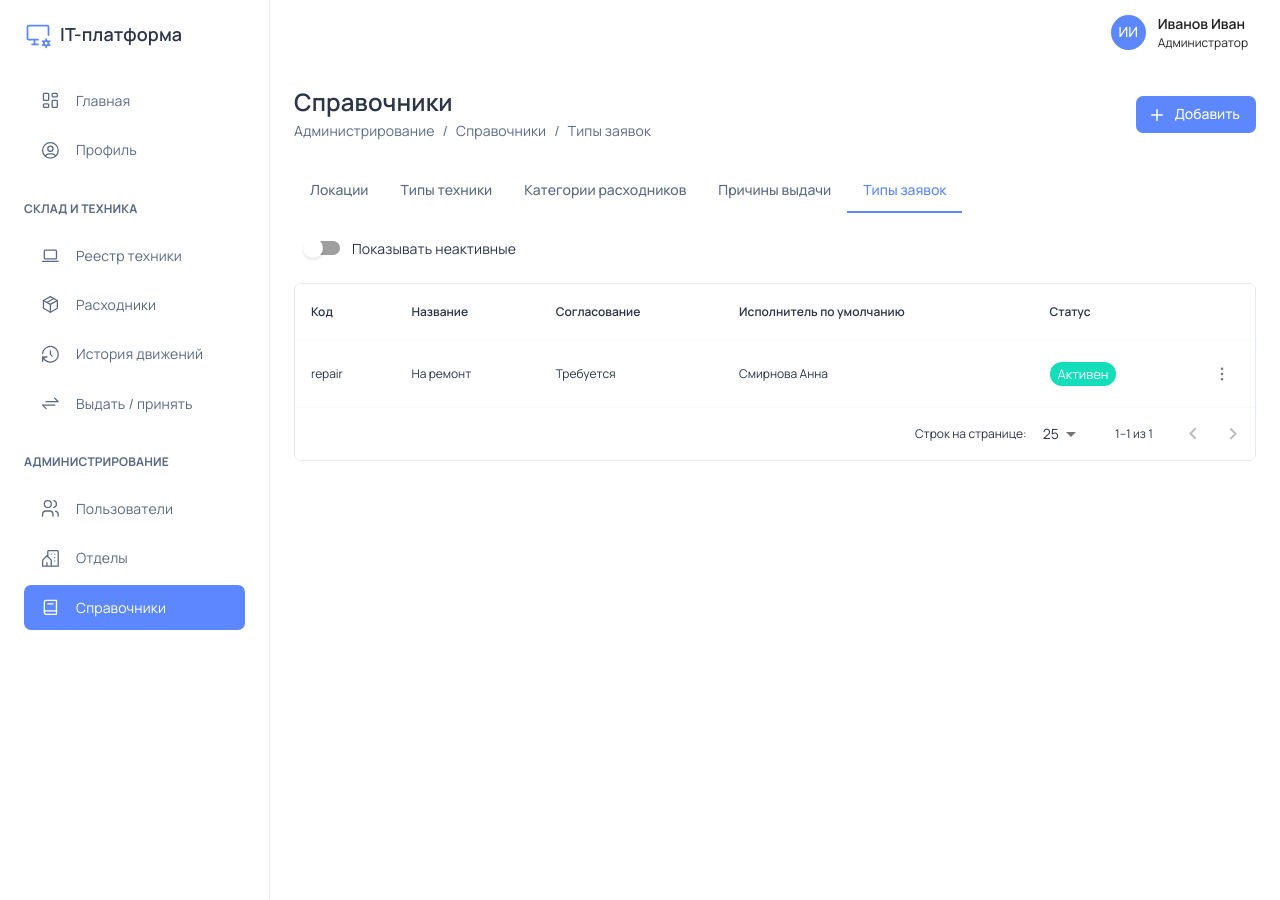
Test: тип заявки: код задаётся при создании, дубль кода — ошибка под полем «Код»
Expected: the text "Смирнова Анна" is shown, [723, 341, 1034, 408]
Click the button named "Действия".
click(1222, 374)  # box [1205, 357, 1239, 391]
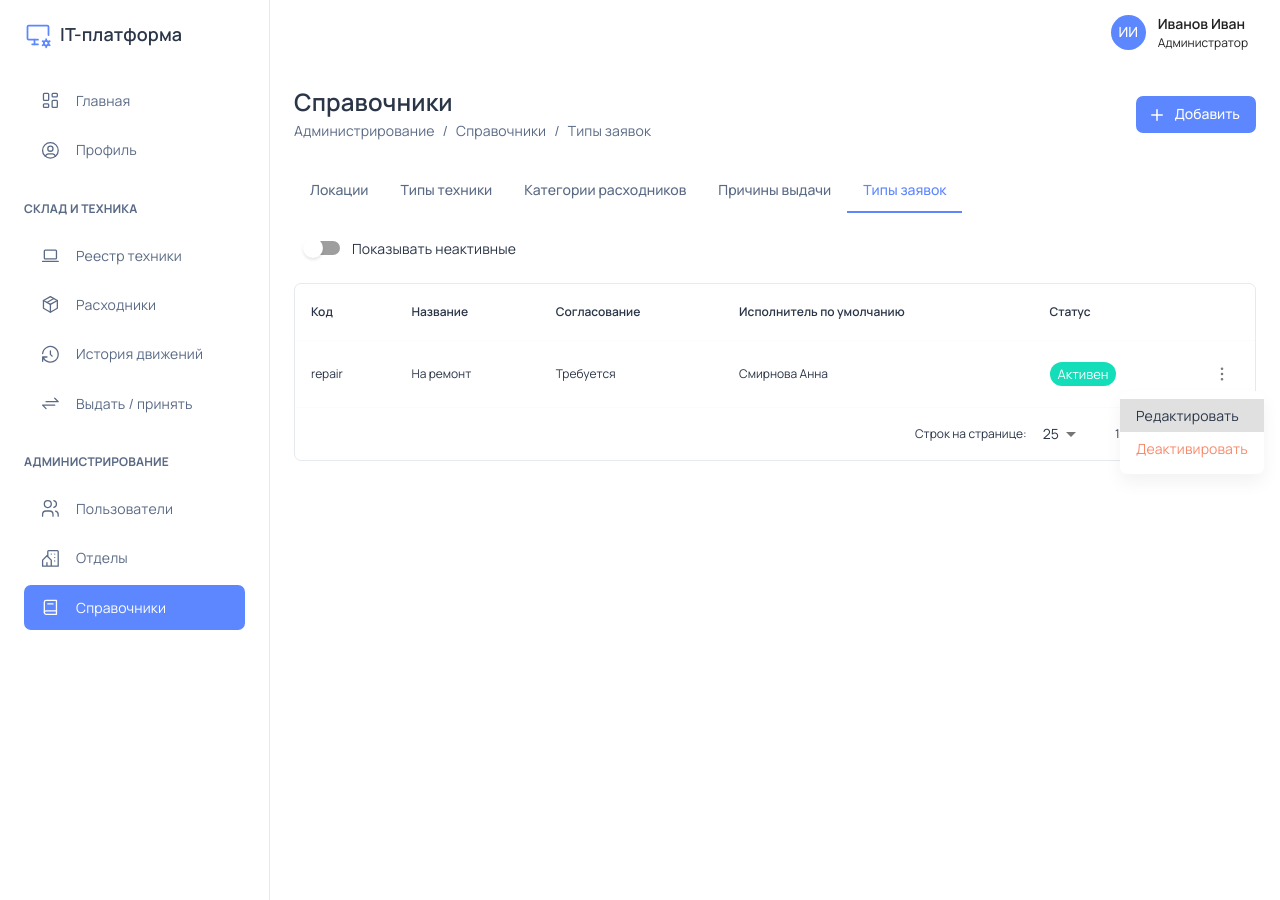
Click the menu item "Редактировать".
click(1192, 416)  # box [1120, 399, 1264, 432]
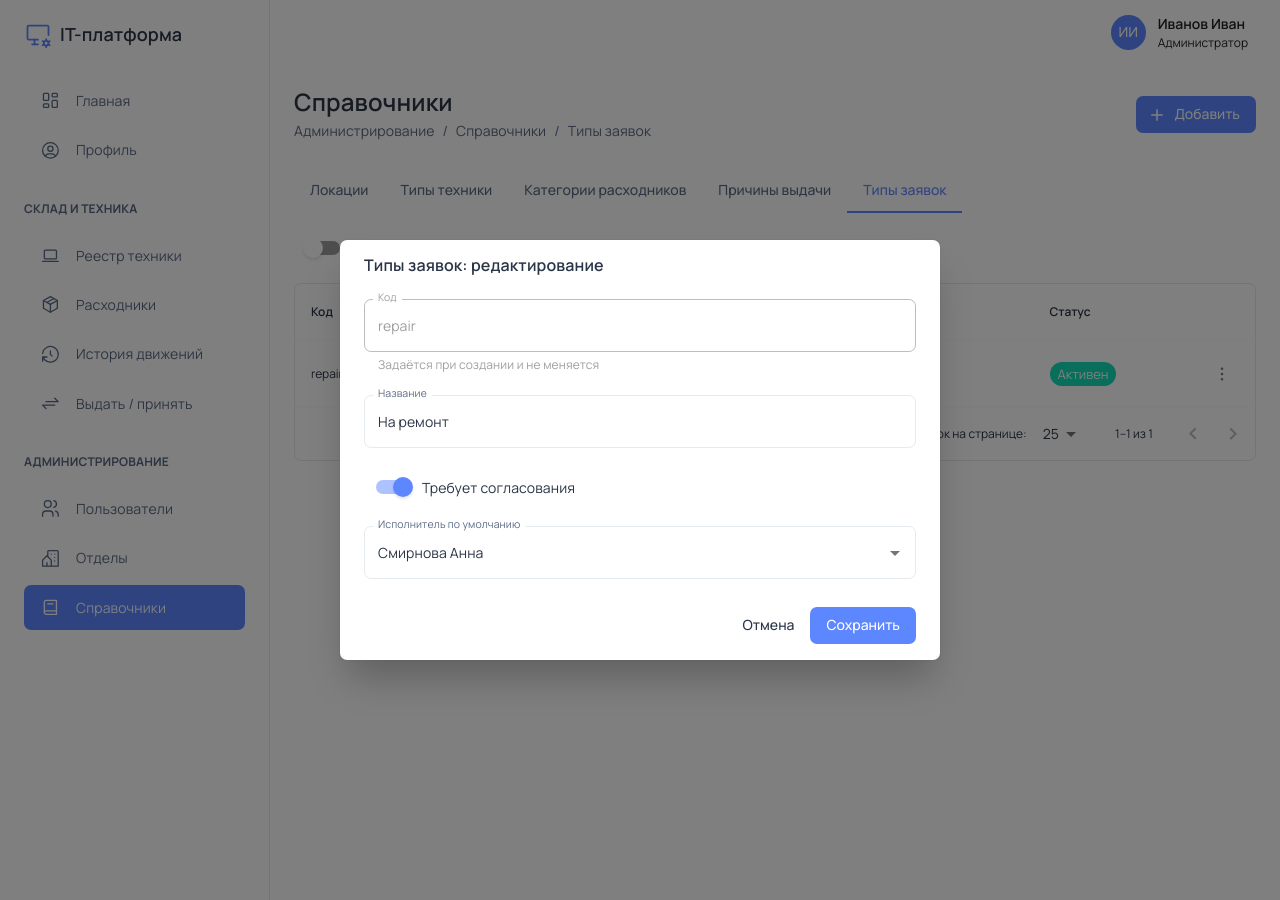
Expected: the field labelled "Код" is disabled, [364, 299, 916, 352]
Click the button "Отмена".
click(769, 626)  # box [735, 608, 802, 644]
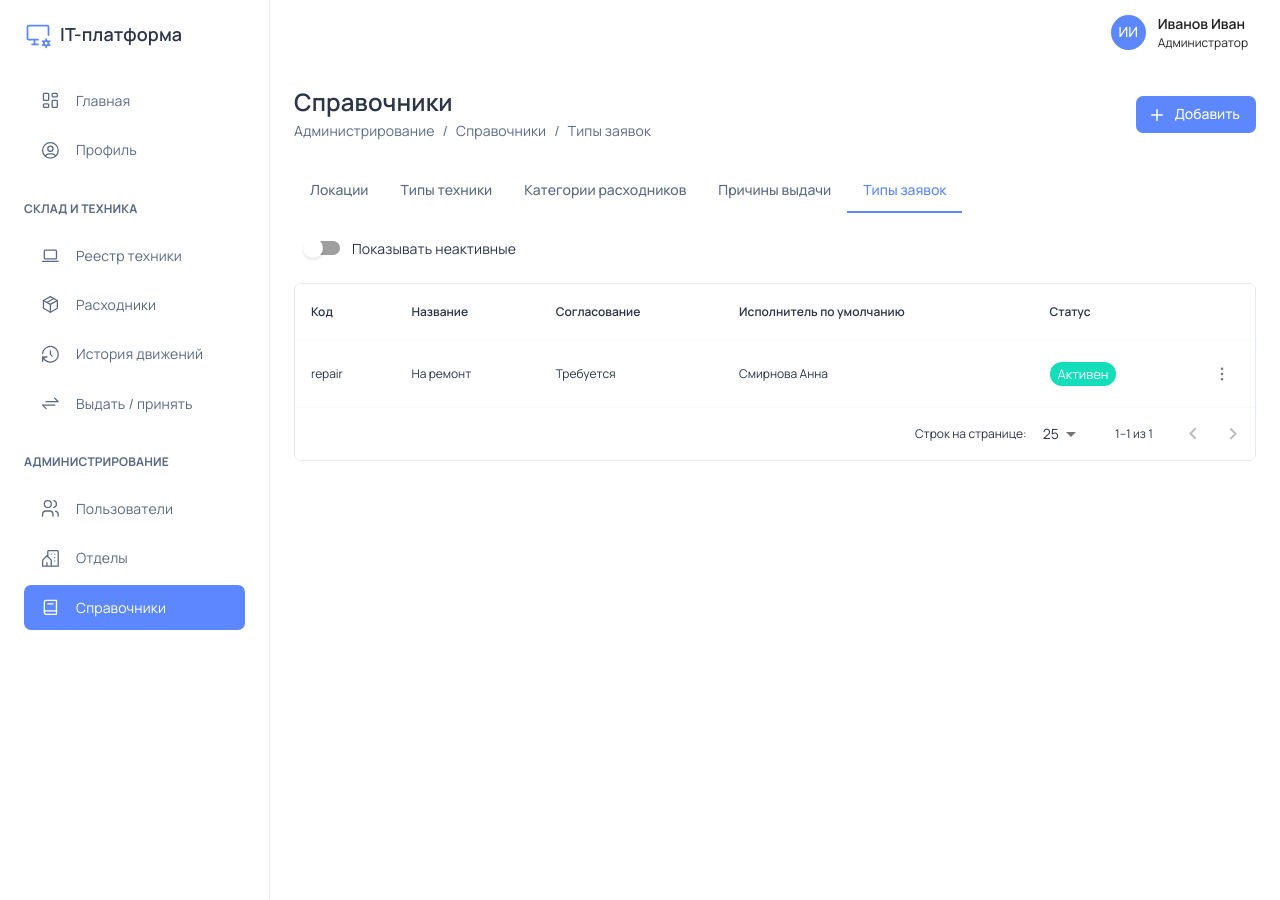
Expected: the dialog is gone
Click the button "Добавить".
click(1196, 115)  # box [1136, 96, 1256, 133]
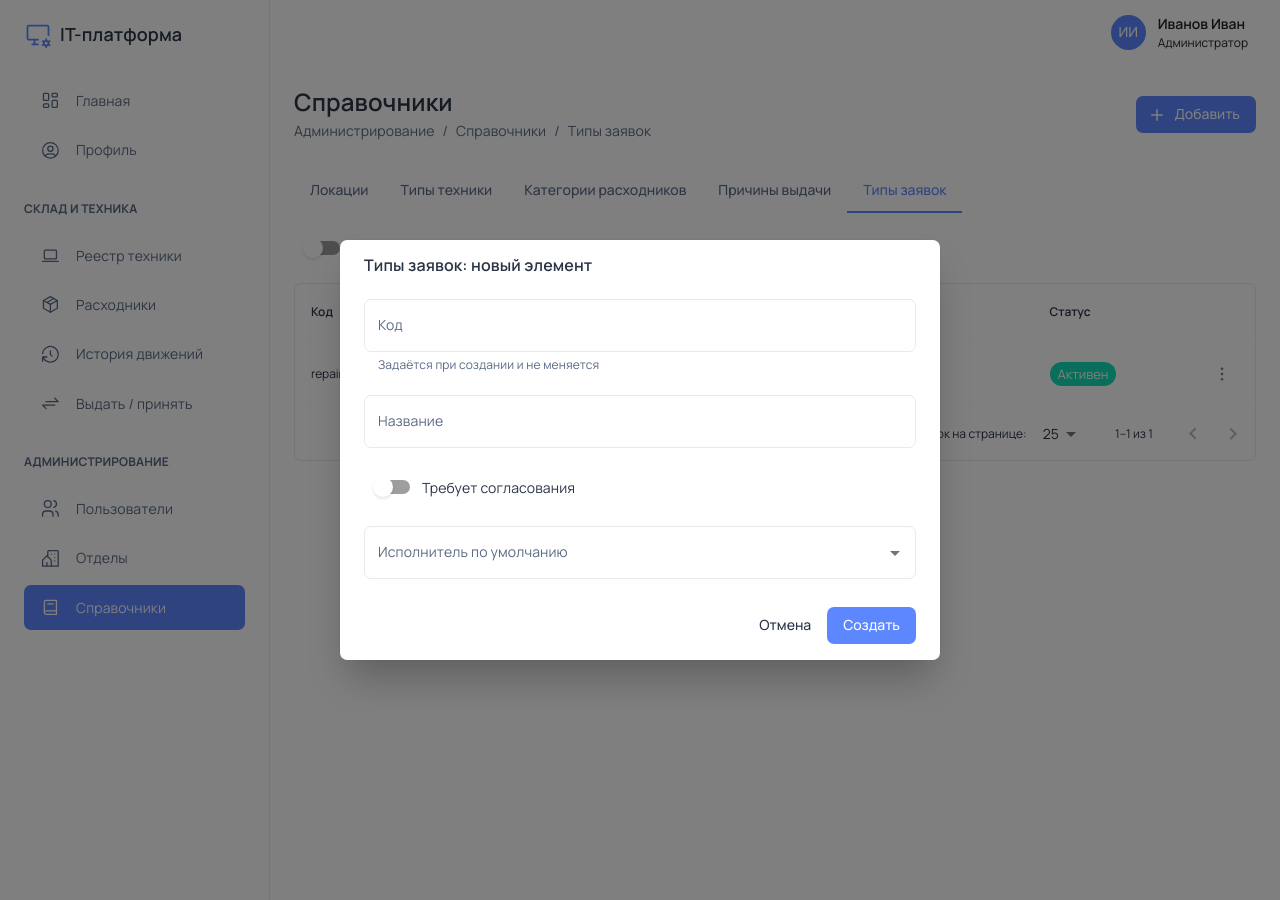
Type "repair" into the field labelled "Код".
click(640, 326); type("repair")  # box [364, 299, 916, 352]
Type "Ремонт" into the field labelled "Название".
click(640, 422); type("Ремонт")  # box [364, 395, 916, 448]
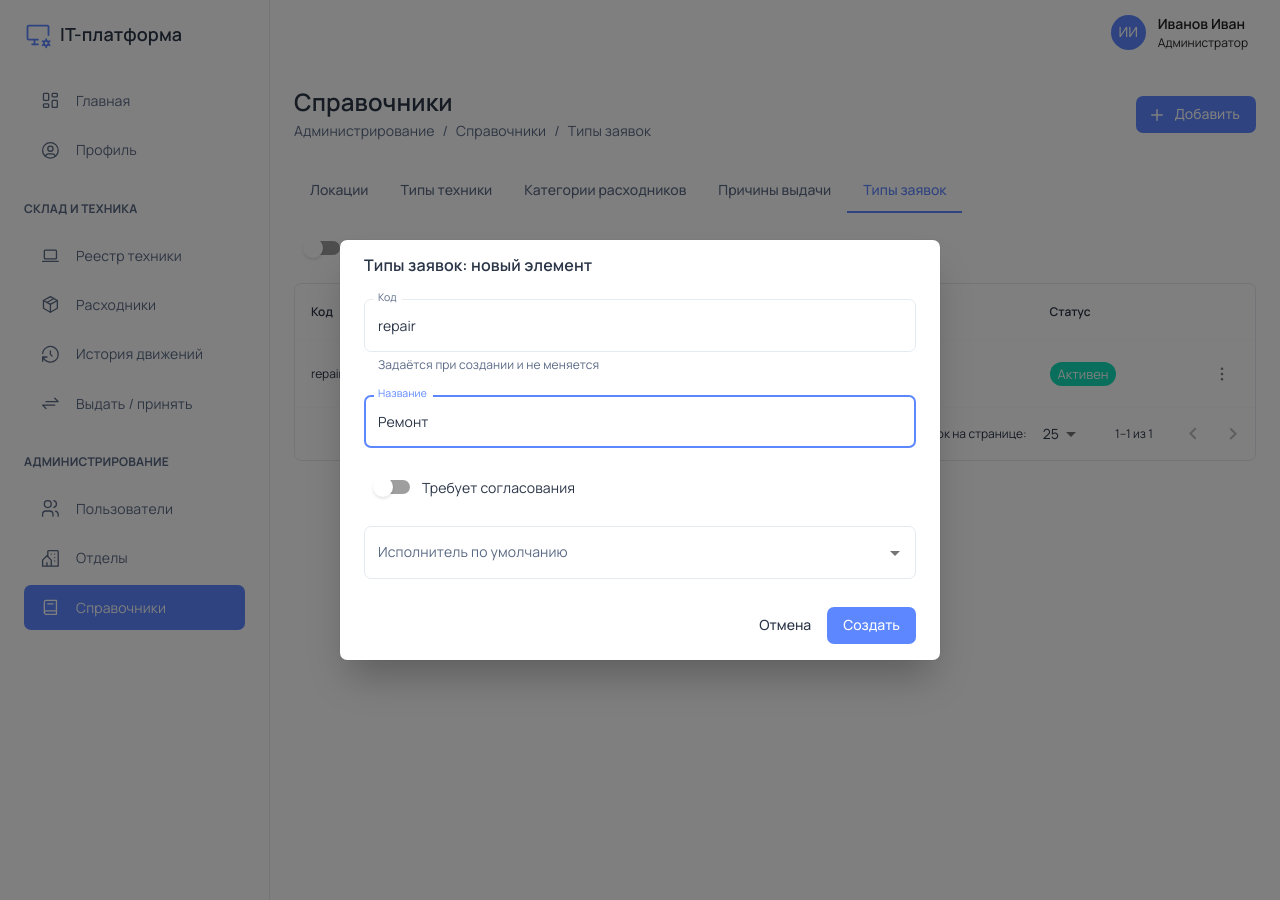
Click the button "Создать".
click(872, 626)  # box [827, 608, 916, 644]
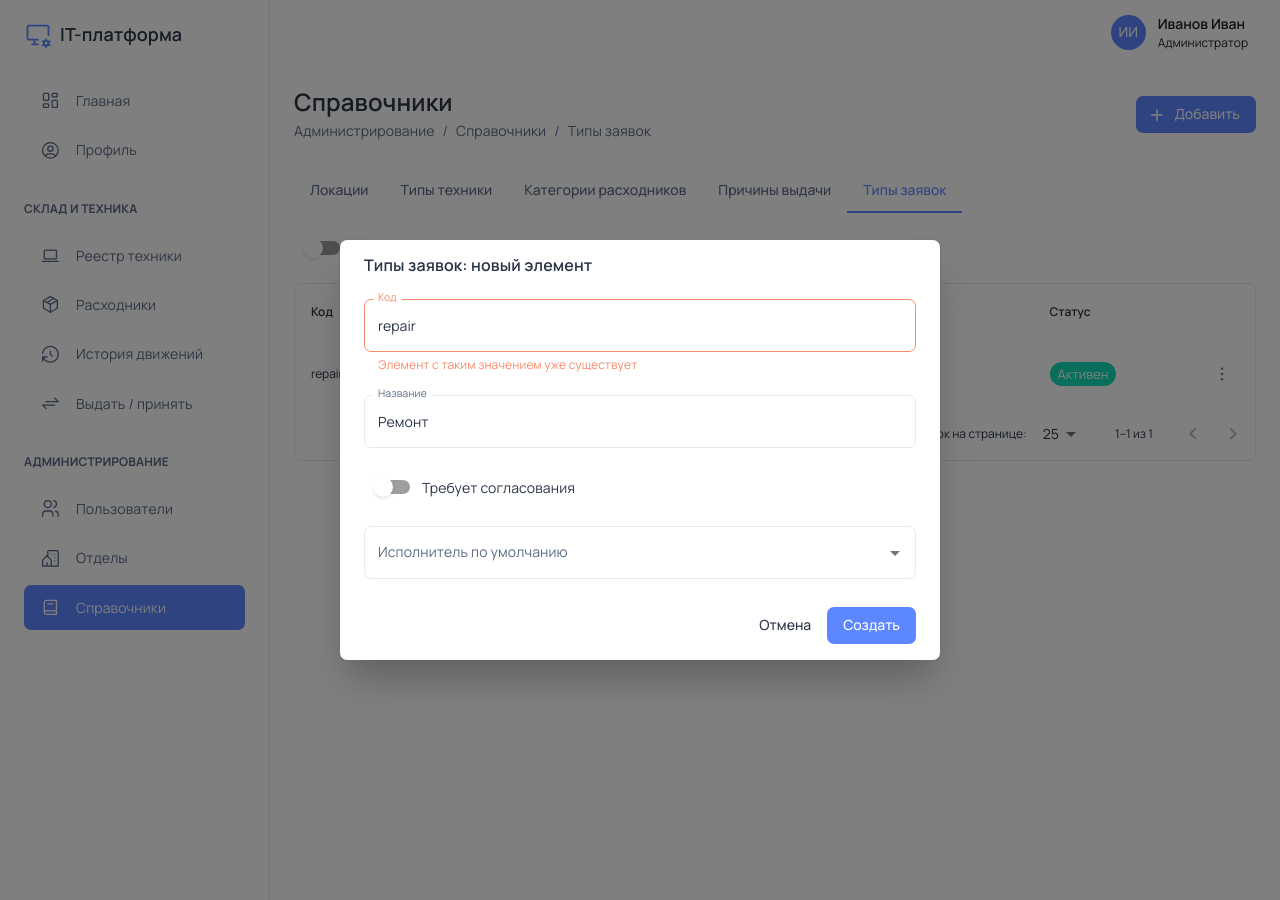
Expected: the text "Элемент с таким значением уже существует" is shown, [378, 356, 637, 373]
